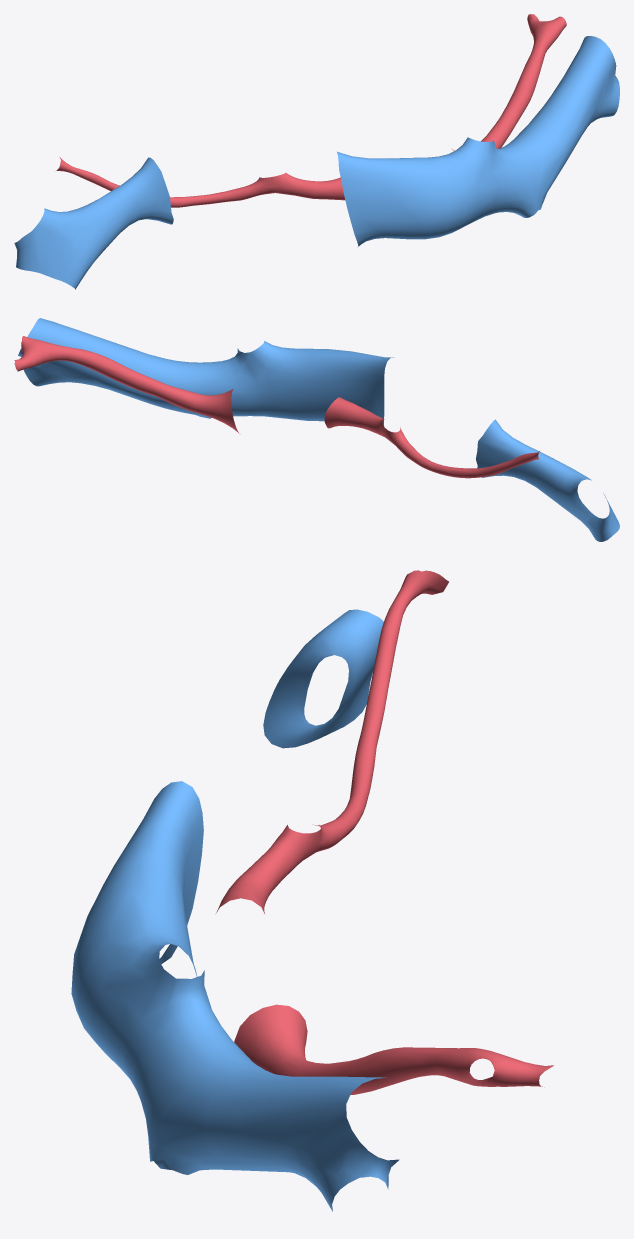
Rendered from kidney_vessels.glb.
3 renders of one model, top to bottom at view 1: azimuth 30°, elevation 25°; view 2: azimuth 150°, elevation 25°; view 3: azimuth 270°, elevation 25°, orthographic. The views are drawn at different scales.
Visible parts, largest first — view 1: VH_M_renal_vein_L, VH_M_left_renal_artery; view 2: VH_M_renal_vein_L, VH_M_left_renal_artery; view 3: VH_M_renal_vein_L, VH_M_left_renal_artery.
Part boxes in pixels (<box>): VH_M_renal_vein_L: <box>14,36,619,289</box>; VH_M_left_renal_artery: <box>56,14,566,207</box>; VH_M_renal_vein_L: <box>18,318,619,541</box>; VH_M_left_renal_artery: <box>14,336,539,478</box>; VH_M_renal_vein_L: <box>71,609,399,1211</box>; VH_M_left_renal_artery: <box>216,570,553,1094</box>.
Bounding box in the file's own units: 0.123 × 0.022 × 0.0445.
